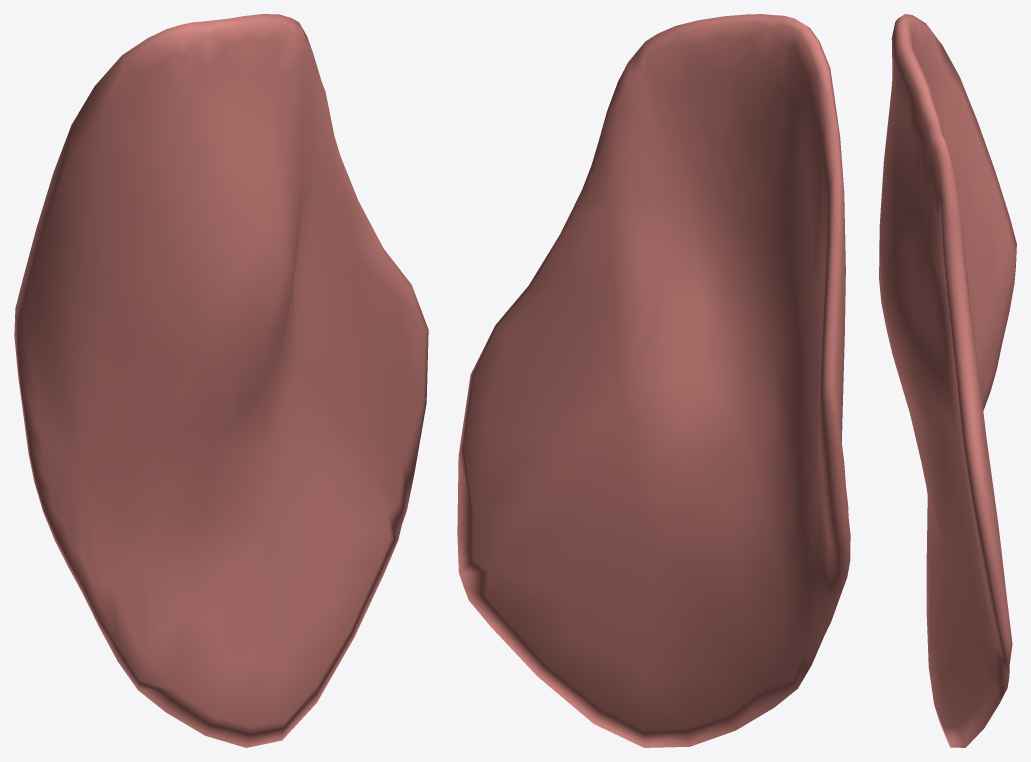
The picture shows the model from 3 angles, left to right: view 1: azimuth 30°, elevation 25°; view 2: azimuth 150°, elevation 25°; view 3: azimuth 270°, elevation 25°; orthographic projection. The views are drawn at different scales.
Parts seen in each view (by area): view 1: ZA_26e4276c365a7eab; view 2: ZA_26e4276c365a7eab; view 3: ZA_26e4276c365a7eab.
Part boxes in pixels (x1,y1,x2,y2): ZA_26e4276c365a7eab: (14, 14, 428, 747); ZA_26e4276c365a7eab: (457, 14, 850, 747); ZA_26e4276c365a7eab: (879, 14, 1016, 747).
Bounding box in the file's own units: 0.00919 × 0.0168 × 0.00311.
